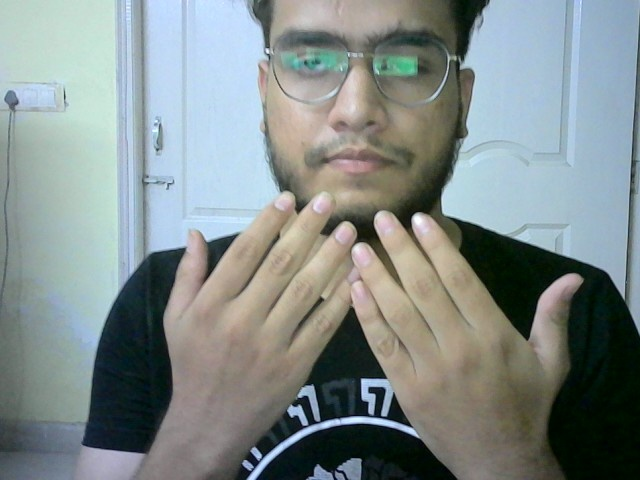Thank You: (152, 180, 590, 428)
